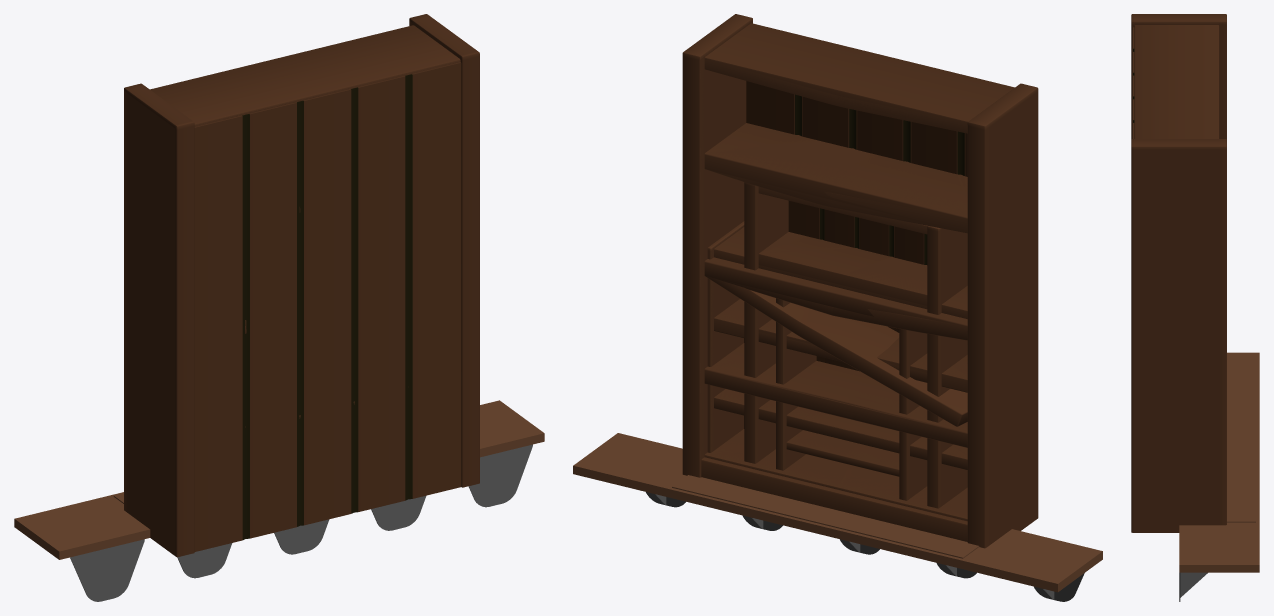
Rendered from Shelves.fbx.
3 views of the same model, side by side, from view 1: azimuth 30°, elevation 25°; view 2: azimuth 150°, elevation 25°; view 3: azimuth 270°, elevation 25° (orthographic). The views are drawn at different scales.
Parts seen in each view (by area): view 1: Booskshelf03A, Booskshelf01A, Wallshelf02, Wallshelf01; view 2: Booskshelf01A, Booskshelf03A, Booskshelf01B, Wallshelf02, Booskshelf04, Booskshelf01D, Booskshelf03B, Booskshelf02, Booskshelf01C, Wallshelf01, Booskshelf03C, Booskshelf03D; view 3: Booskshelf01A, Wallshelf02, Wallshelf01, Booskshelf03A.
Part boxes in pixels (box(x1,y1,x2,y2)): Booskshelf03A: box(194, 21, 461, 551); Booskshelf01A: box(124, 14, 479, 557); Wallshelf02: box(14, 400, 544, 601); Wallshelf01: box(113, 493, 426, 578); Booskshelf01A: box(682, 14, 1038, 548); Booskshelf03A: box(701, 21, 967, 541); Booskshelf01B: box(744, 182, 967, 508); Wallshelf02: box(573, 433, 1102, 601); Booskshelf04: box(705, 60, 983, 443); Booskshelf01D: box(707, 221, 967, 469); Booskshelf03B: box(756, 186, 927, 462); Booskshelf02: box(704, 59, 967, 446); Booskshelf01C: box(776, 298, 927, 500); Wallshelf01: box(672, 475, 979, 578); Booskshelf03C: box(784, 301, 899, 469); Booskshelf03D: box(711, 225, 967, 458); Booskshelf01A: box(1131, 14, 1226, 532); Wallshelf02: box(1179, 352, 1259, 601); Wallshelf01: box(1227, 394, 1255, 522); Booskshelf03A: box(1132, 23, 1225, 138).
Size of the model in its own units: 2.99 by 2.84 by 0.7647.
